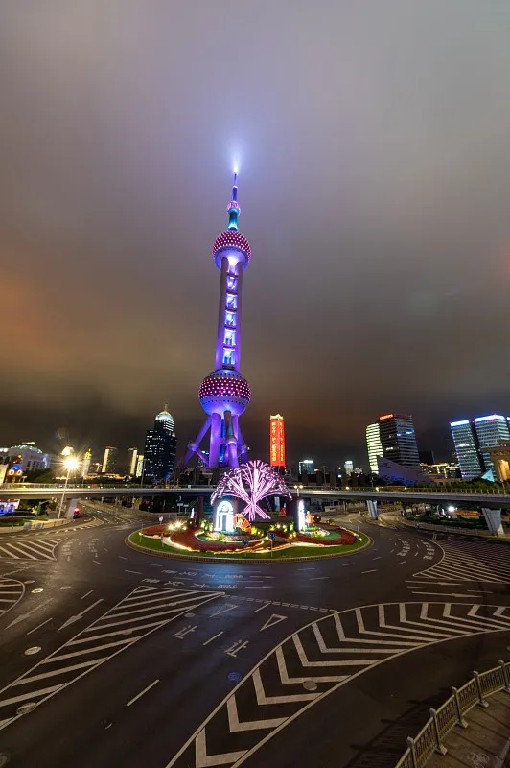Oriental: (180, 168, 250, 469)
